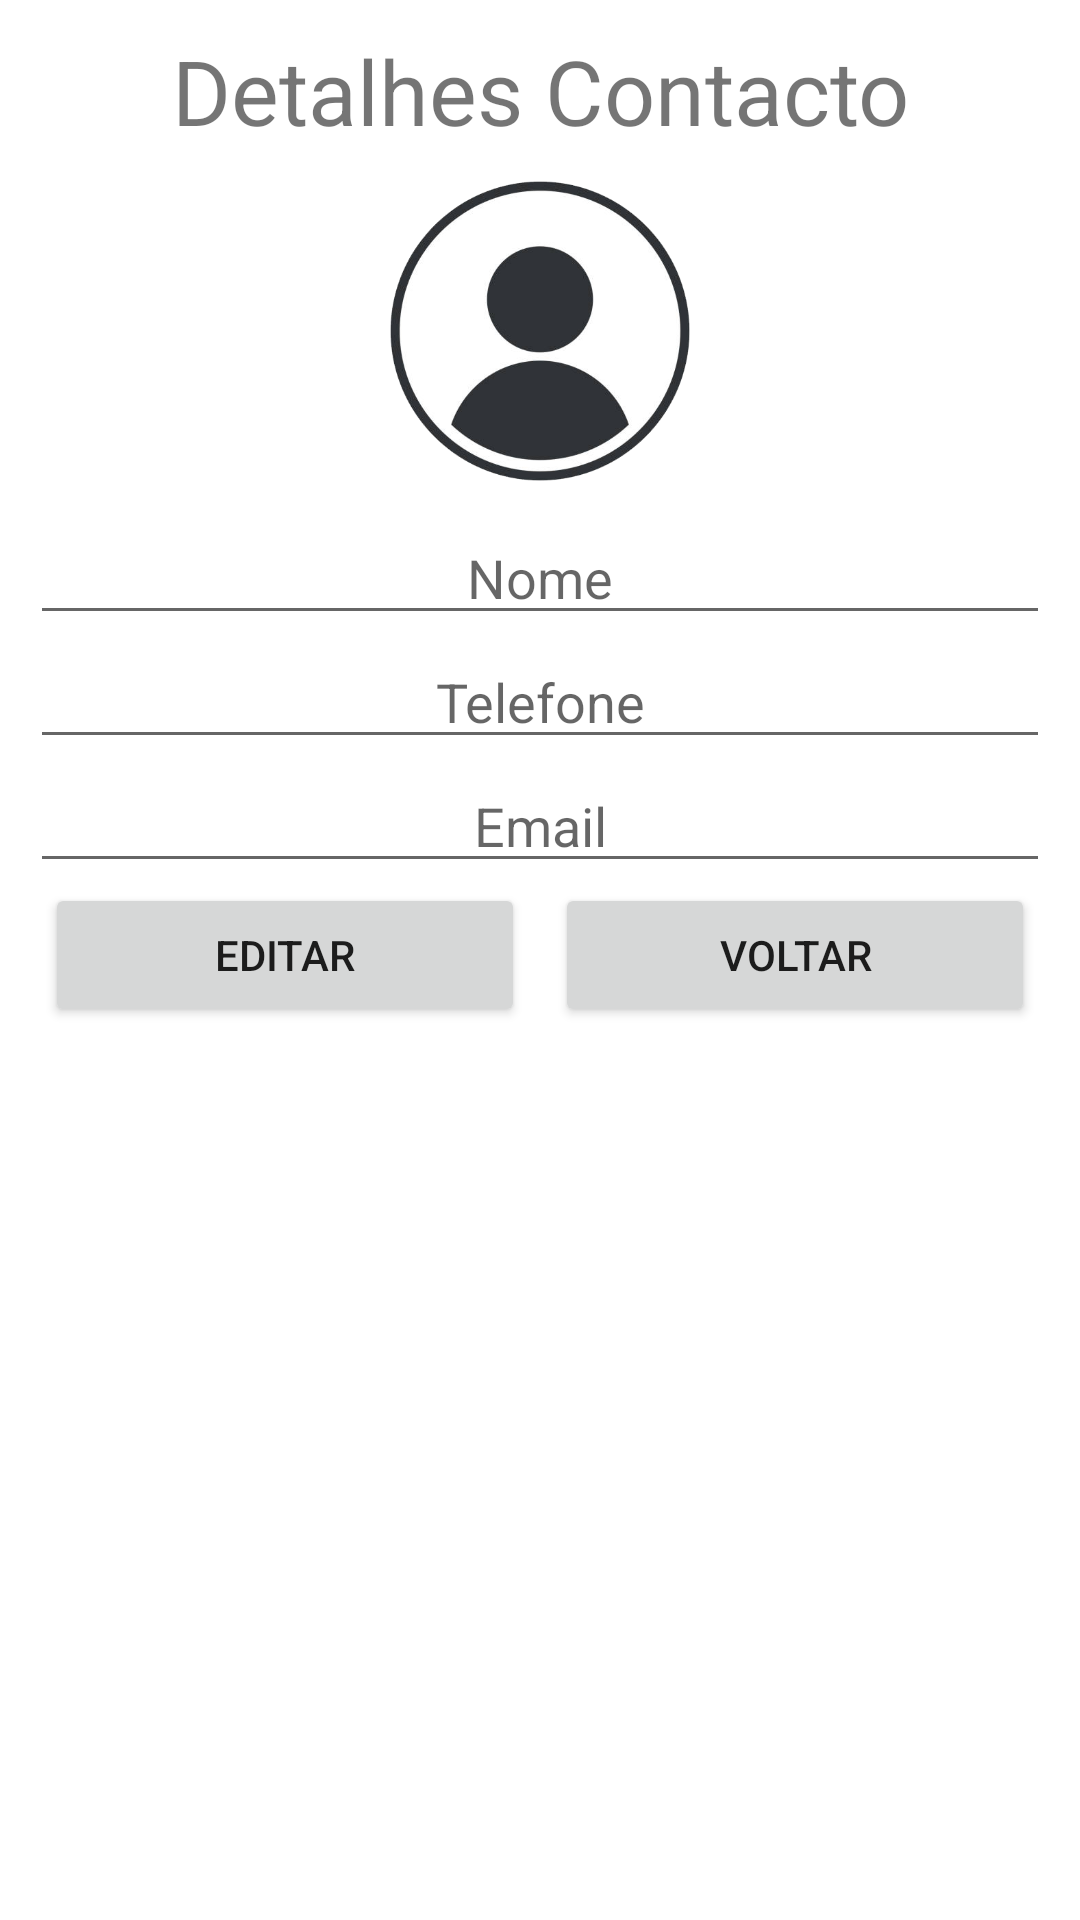

Named icons in this screenshot (1080px×1920px) and their bounding boxes, region(x1, y1, x2, y2):
profiledefault: region(390, 181, 690, 481)
